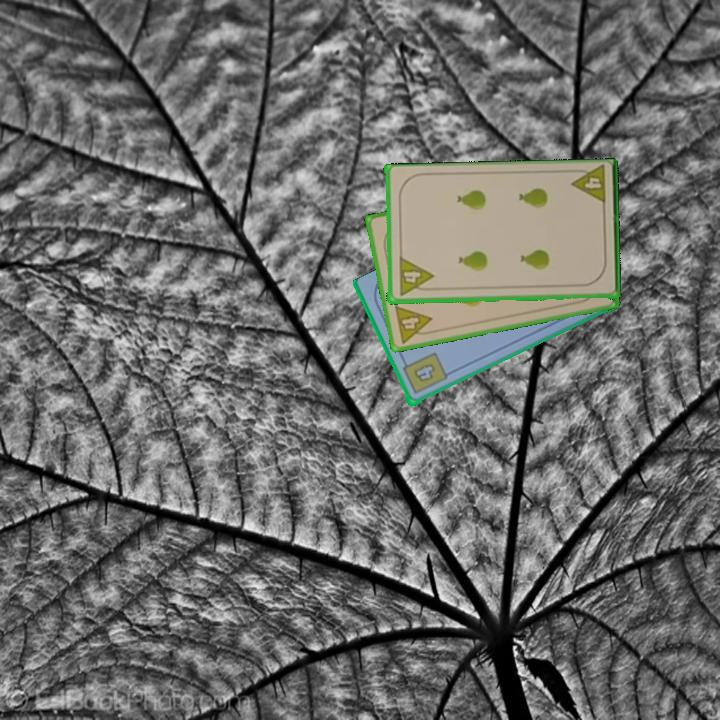4b: (399, 349, 450, 397)
4p: (391, 302, 437, 346), (567, 164, 609, 208), (395, 255, 435, 299)
